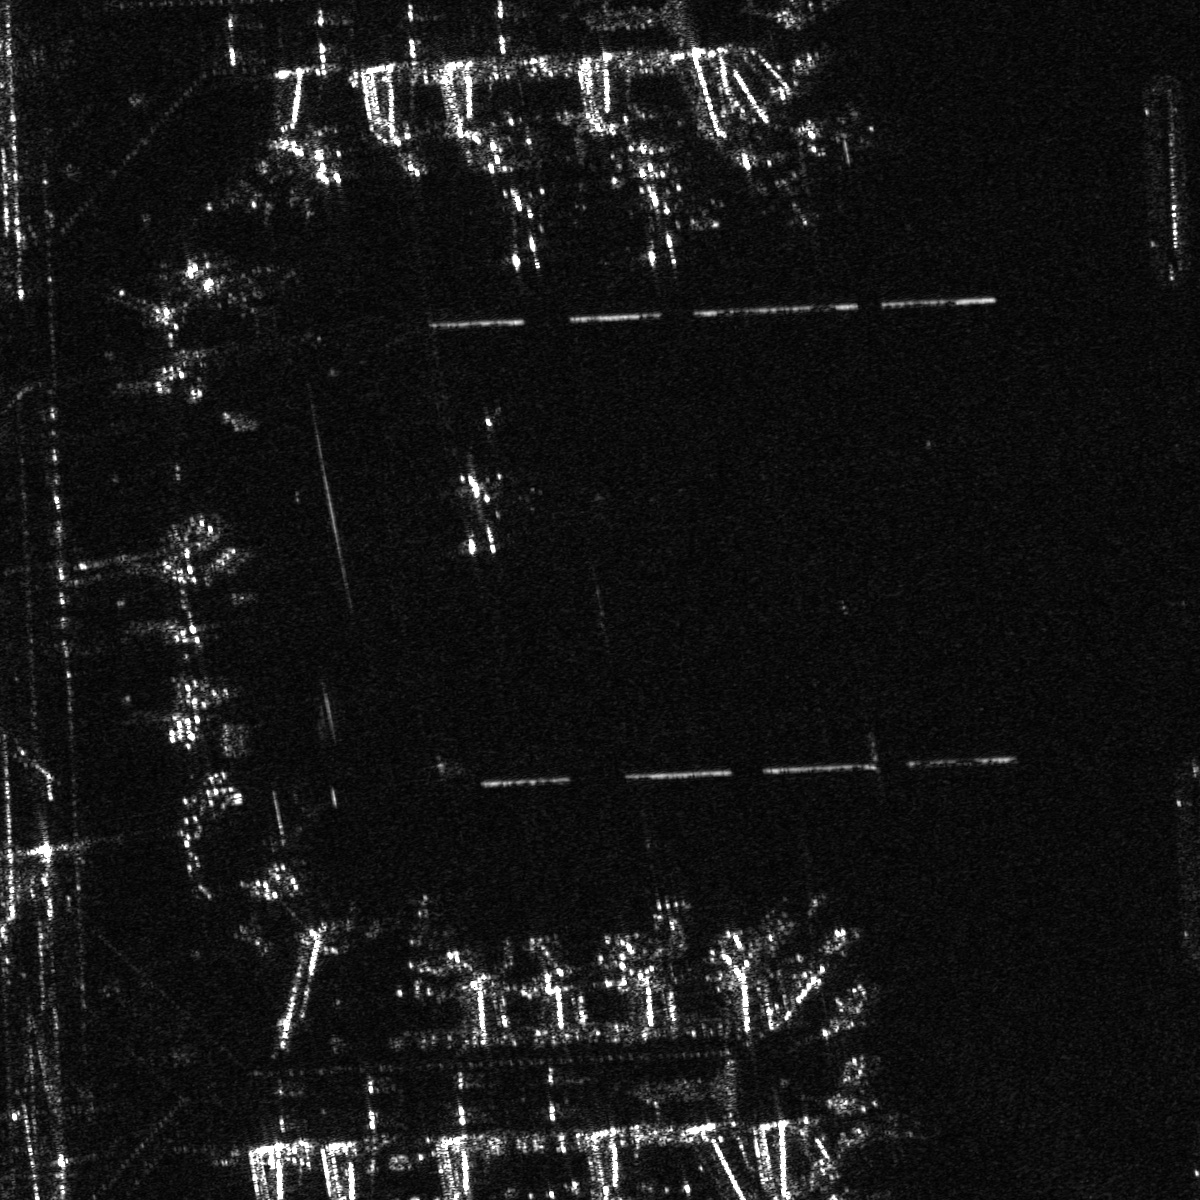A320/321: (614, 155, 711, 266), (641, 893, 697, 945)
Boeing737: (751, 148, 821, 234)
Boeing787: (478, 175, 559, 273)
other: (441, 471, 514, 558)
